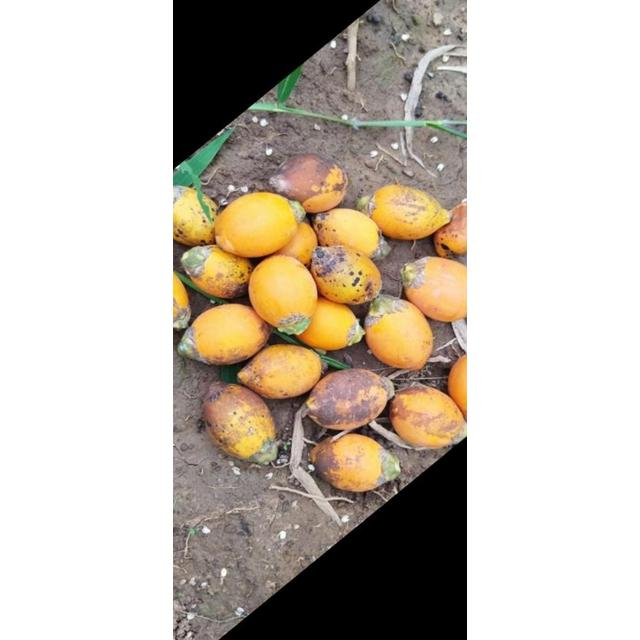good: (200, 382, 278, 462), (179, 305, 269, 365), (309, 434, 399, 491), (385, 387, 465, 449), (364, 296, 431, 368), (368, 185, 454, 239), (270, 154, 348, 212), (238, 345, 320, 399), (400, 256, 466, 322), (254, 262, 322, 326), (310, 246, 382, 304), (180, 244, 254, 300), (295, 297, 361, 351), (312, 209, 382, 259), (174, 186, 218, 246), (274, 220, 318, 266), (448, 354, 466, 422), (173, 266, 189, 322), (284, 198, 308, 225)
